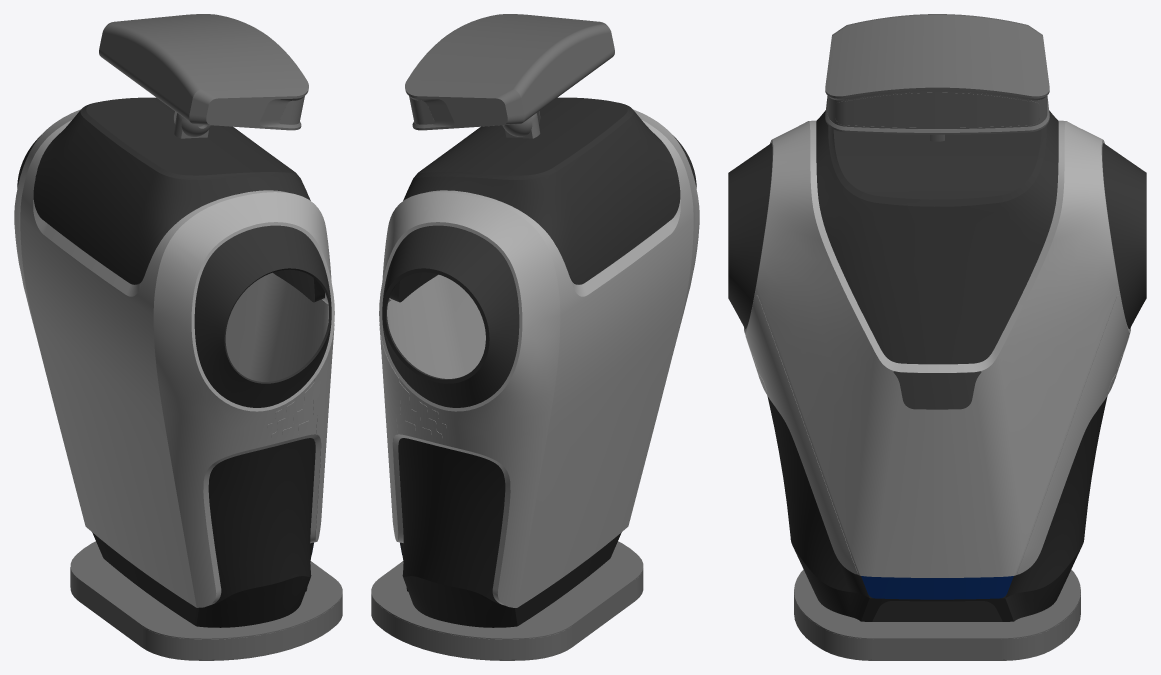
Rendered from Torso.dae.
3 renders of one model, left to right at view 1: azimuth 30°, elevation 25°; view 2: azimuth 150°, elevation 25°; view 3: azimuth 270°, elevation 25°, orthographic.
Visible parts, largest first — view 1: TORSO Seperate Part1-1, TORSO Seperate part3-1, TORSO part4-1, TORSO Seperate part2-1, Torso_collis.SLDPRT; view 2: TORSO Seperate Part1-1, TORSO Seperate part3-1, TORSO part4-1, TORSO Seperate part2-1, Torso_collis.SLDPRT; view 3: TORSO Seperate Part1-1, TORSO Seperate part3-1, TORSO part4-1, TORSO Seperate part2-1, Torso_collis.SLDPRT.
Part boxes in pixels (x1=…): TORSO Seperate Part1-1: x1=14, y1=109, x2=334, y2=607; TORSO Seperate part3-1: x1=17, y1=97, x2=331, y2=407; TORSO part4-1: x1=99, y1=14, x2=334, y2=554; TORSO Seperate part2-1: x1=92, y1=438, x2=315, y2=627; Torso_collis.SLDPRT: x1=70, y1=541, x2=342, y2=660; TORSO Seperate Part1-1: x1=379, y1=109, x2=699, y2=607; TORSO Seperate part3-1: x1=382, y1=97, x2=696, y2=407; TORSO part4-1: x1=379, y1=14, x2=614, y2=554; TORSO Seperate part2-1: x1=398, y1=438, x2=621, y2=627; Torso_collis.SLDPRT: x1=371, y1=541, x2=643, y2=660; TORSO Seperate Part1-1: x1=744, y1=120, x2=1130, y2=577; TORSO Seperate part3-1: x1=728, y1=110, x2=1146, y2=364; TORSO part4-1: x1=745, y1=14, x2=1129, y2=621; TORSO Seperate part2-1: x1=767, y1=396, x2=1107, y2=621; Torso_collis.SLDPRT: x1=794, y1=569, x2=1080, y2=660.
Size of the model in its own units: 0.2176 by 0.344 by 0.5212.
